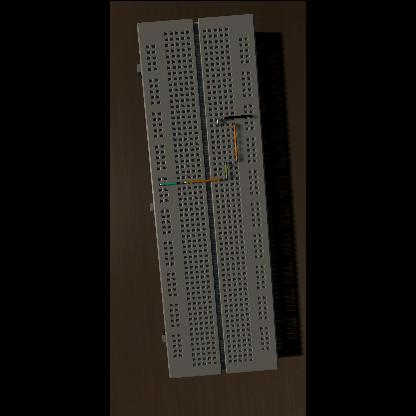breadboard: (138, 13, 278, 377)
wire: (233, 122, 238, 162), (222, 114, 254, 120), (185, 178, 223, 182), (225, 161, 228, 179), (160, 182, 180, 184), (218, 118, 219, 126)
